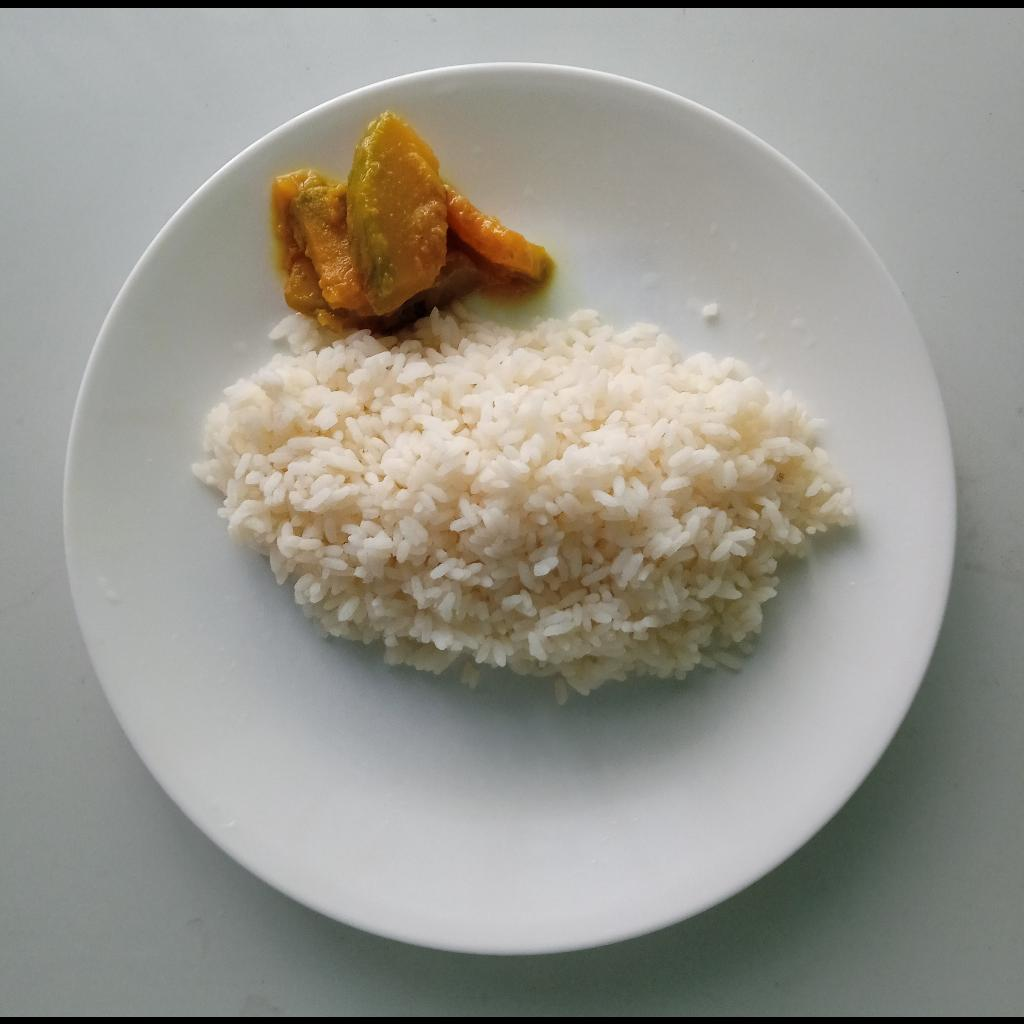chicken: (278, 104, 544, 313)
rice: (190, 314, 855, 678)
